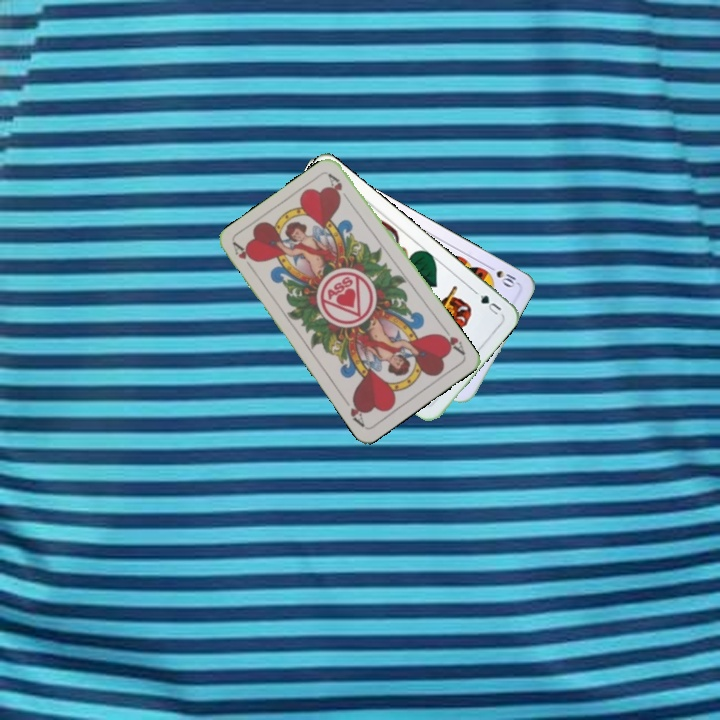GU: (471, 287, 504, 319)
HA: (435, 322, 468, 358), (229, 239, 258, 275)
S10: (483, 261, 519, 290)
